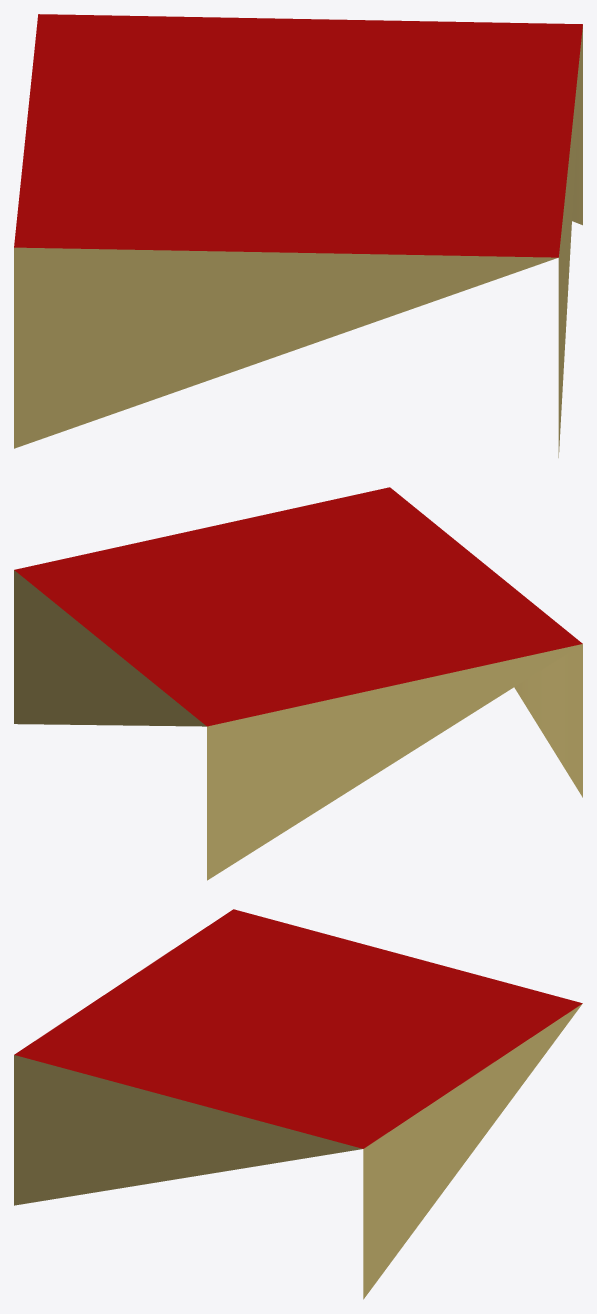
3 renders of one model, top to bottom at view 1: azimuth 30°, elevation 25°; view 2: azimuth 150°, elevation 25°; view 3: azimuth 270°, elevation 25°, orthographic. The views are drawn at different scales.
Bounding box in the file's own units: 25.58 × 7.5 × 25.65.
